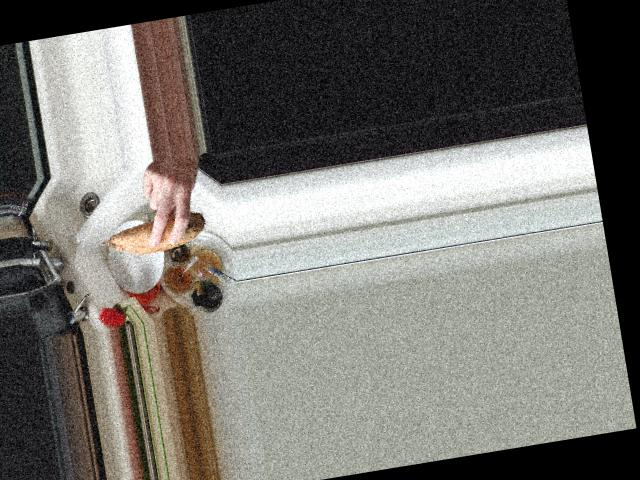sweet_potato: (94, 204, 212, 260)
